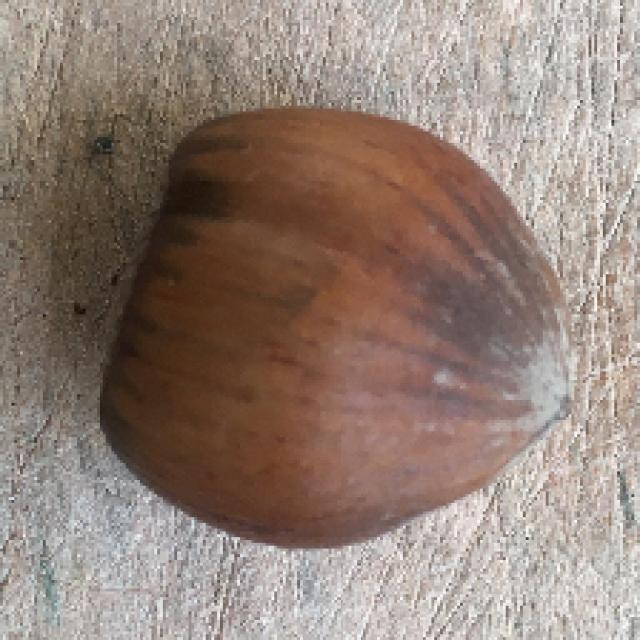qualityHazelnut: (92, 100, 578, 558)
